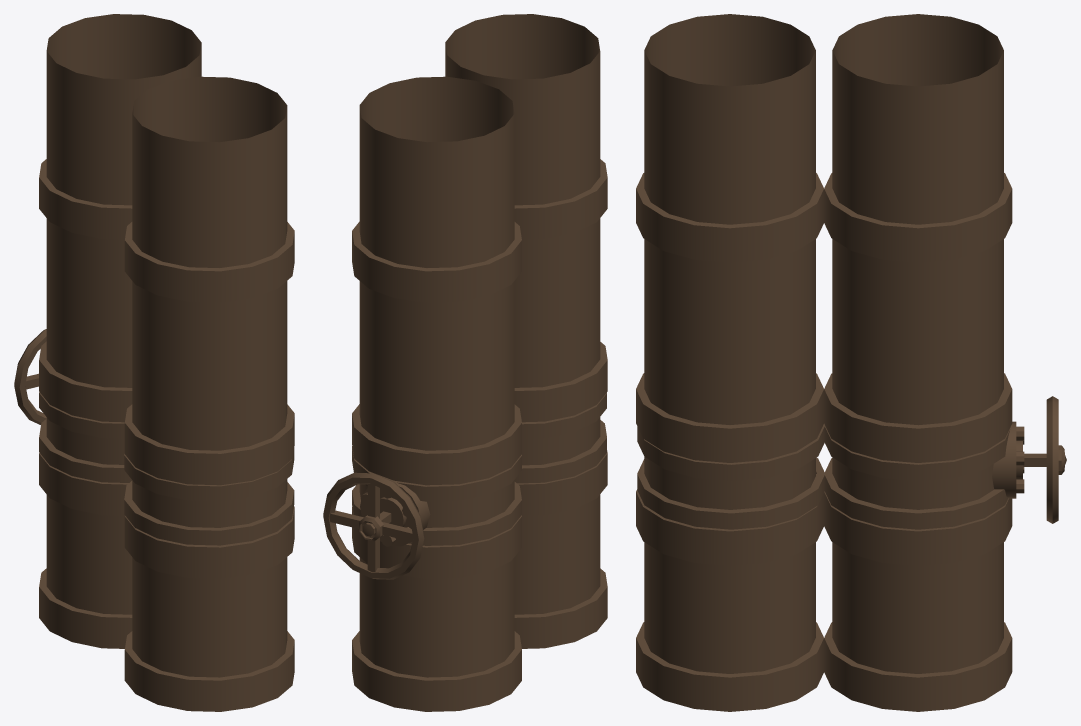
The model's file is Partition.fbx.
The picture shows the model from 3 angles, left to right: view 1: azimuth 30°, elevation 25°; view 2: azimuth 150°, elevation 25°; view 3: azimuth 270°, elevation 25°; orthographic projection. The views are drawn at different scales.
Parts seen in each view (by area): view 1: Partition, PartitionDecoA; view 2: Partition, PartitionDecoA; view 3: Partition, PartitionDecoA.
Part boxes in pixels (x1=…): Partition: x1=39, y1=14, x2=294, y2=711; PartitionDecoA: x1=14, y1=329, x2=294, y2=545; Partition: x1=352, y1=14, x2=607, y2=711; PartitionDecoA: x1=323, y1=392, x2=606, y2=579; Partition: x1=636, y1=14, x2=1012, y2=711; PartitionDecoA: x1=637, y1=396, x2=1066, y2=529.
Bounding box in the file's own units: 1.1 × 4 × 2.51.
